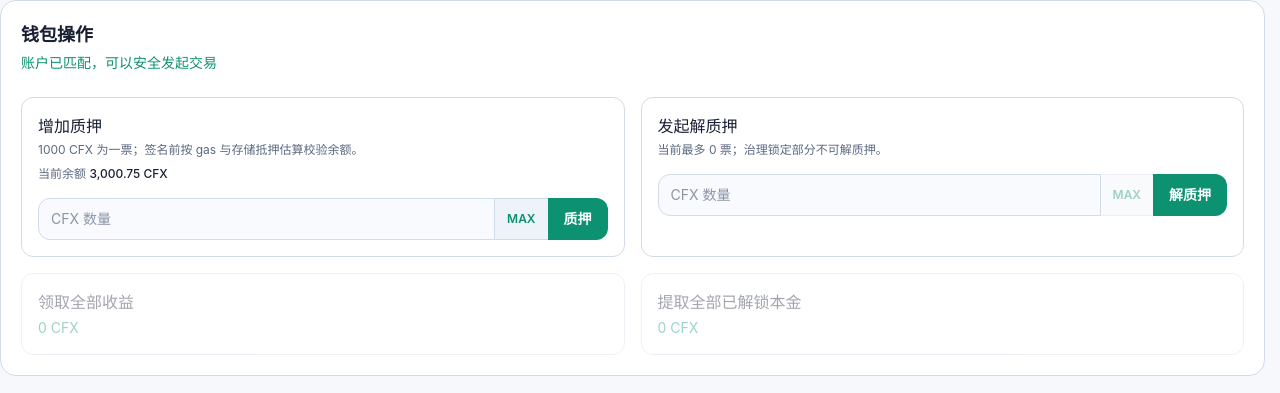
Scenario: PoolActions wallet controls › shows the wallet balance and fills stake MAX with the largest valid whole vote amount
Expected: the text "3,000.75 CFX" is shown, [89, 166, 168, 181]
Click the button with aria-label "质押 MAX". click: [521, 219]
box: [495, 198, 548, 240]
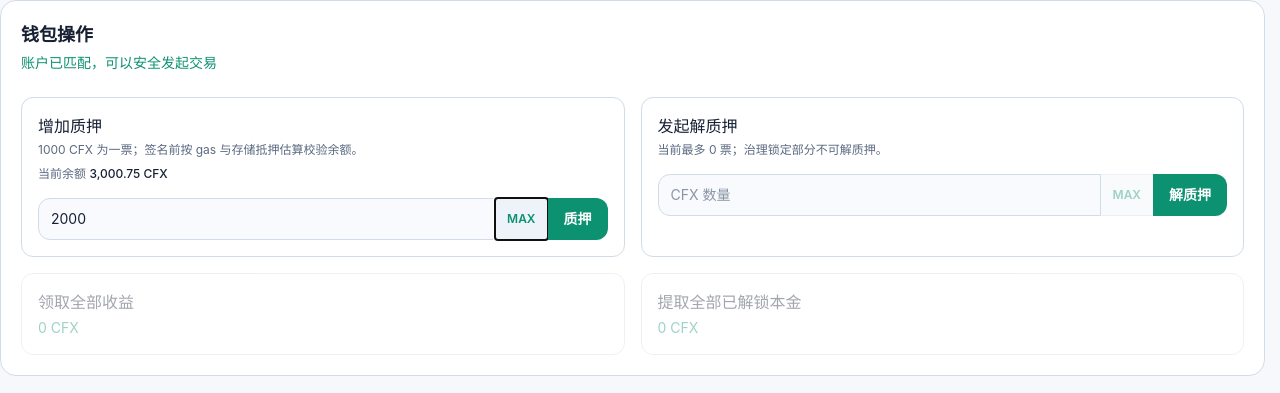
Expected: the field named "质押 CFX 数量" holds "2000", [38, 198, 495, 240]
